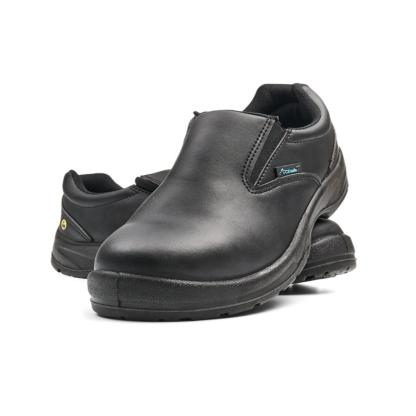bota: (55, 81, 358, 323)
